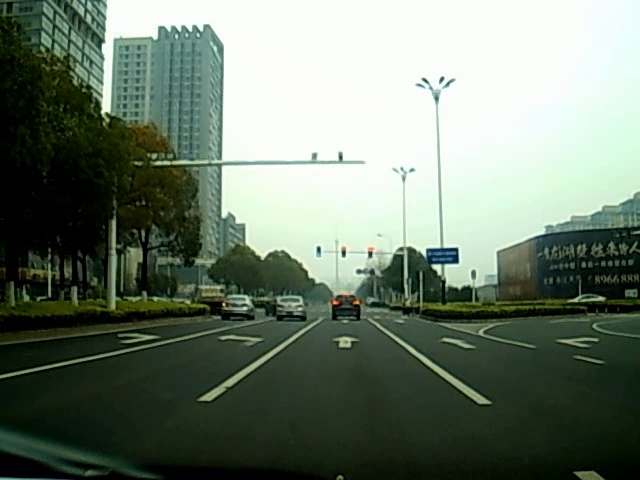Traffic_Light_stop: (338, 247, 348, 260), (366, 246, 373, 260)
